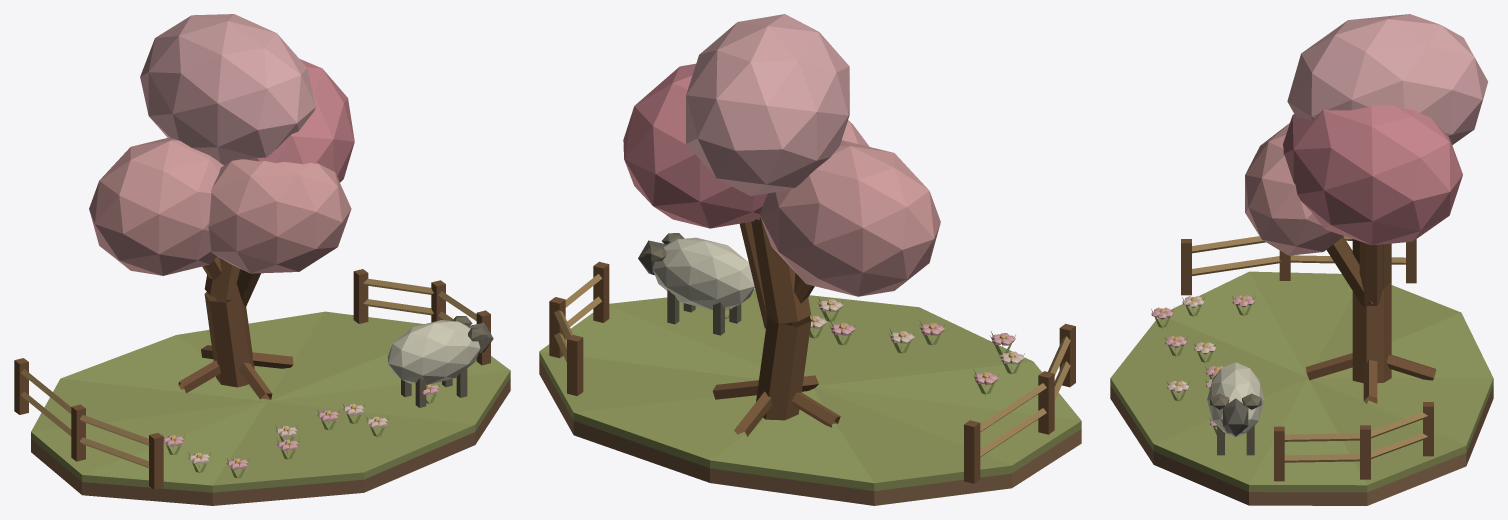
3 views of the same model, side by side, from view 1: azimuth 30°, elevation 25°; view 2: azimuth 150°, elevation 25°; view 3: azimuth 270°, elevation 25° (orthographic). The views are drawn at different scales.
Visible parts, largest first — view 1: S10_花树牧场; view 2: S10_花树牧场; view 3: S10_花树牧场.
Part boxes in pixels (bbox=[...]): S10_花树牧场: bbox=[14, 14, 510, 505]; S10_花树牧场: bbox=[539, 14, 1081, 505]; S10_花树牧场: bbox=[1110, 14, 1493, 505].
Bounding box in the file's own units: 4.41 × 3.65 × 3.34.
